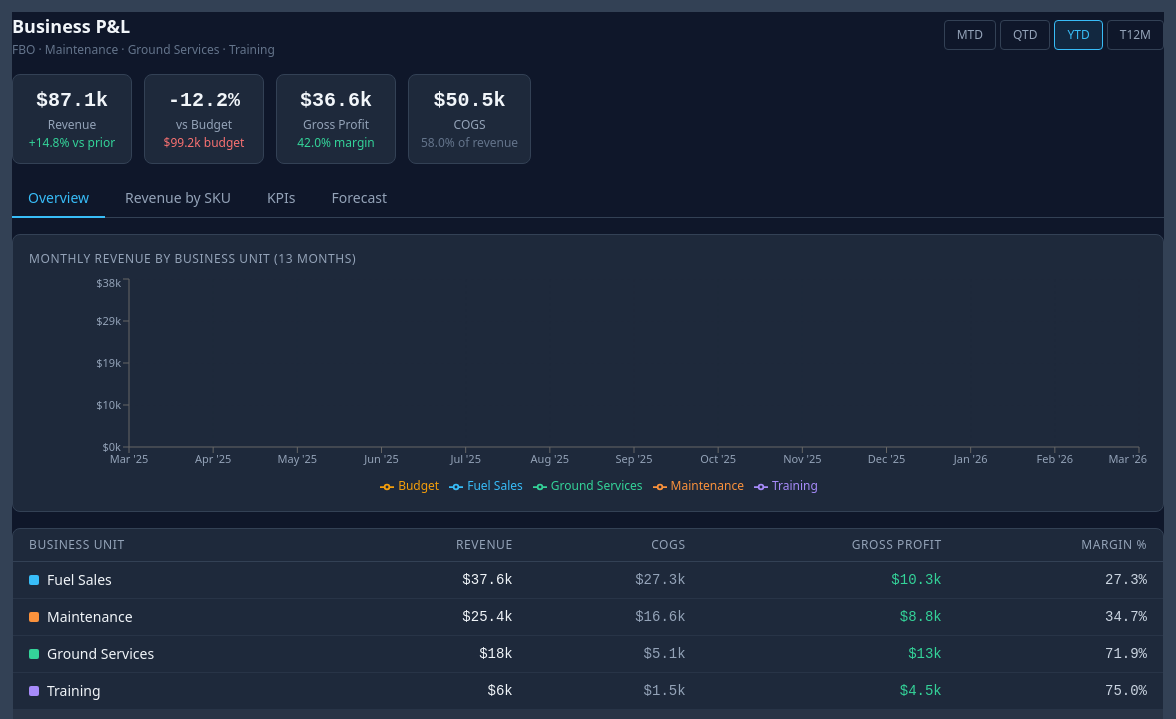
Scenario: BusinessPnL page › switches to Revenue by SKU tab
Click the button "Revenue by SKU". click: [178, 199]
box: [109,180,247,218]
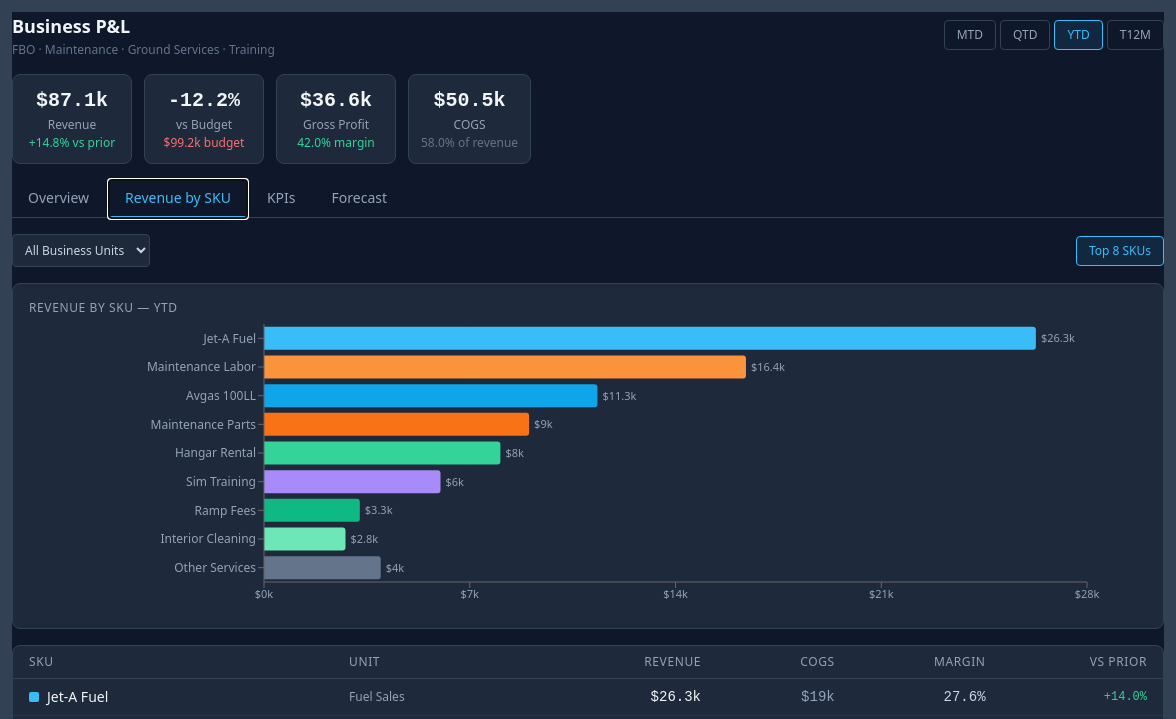
Expected: the button "Top 8 SKUs" is shown, [1076,236,1164,266]
